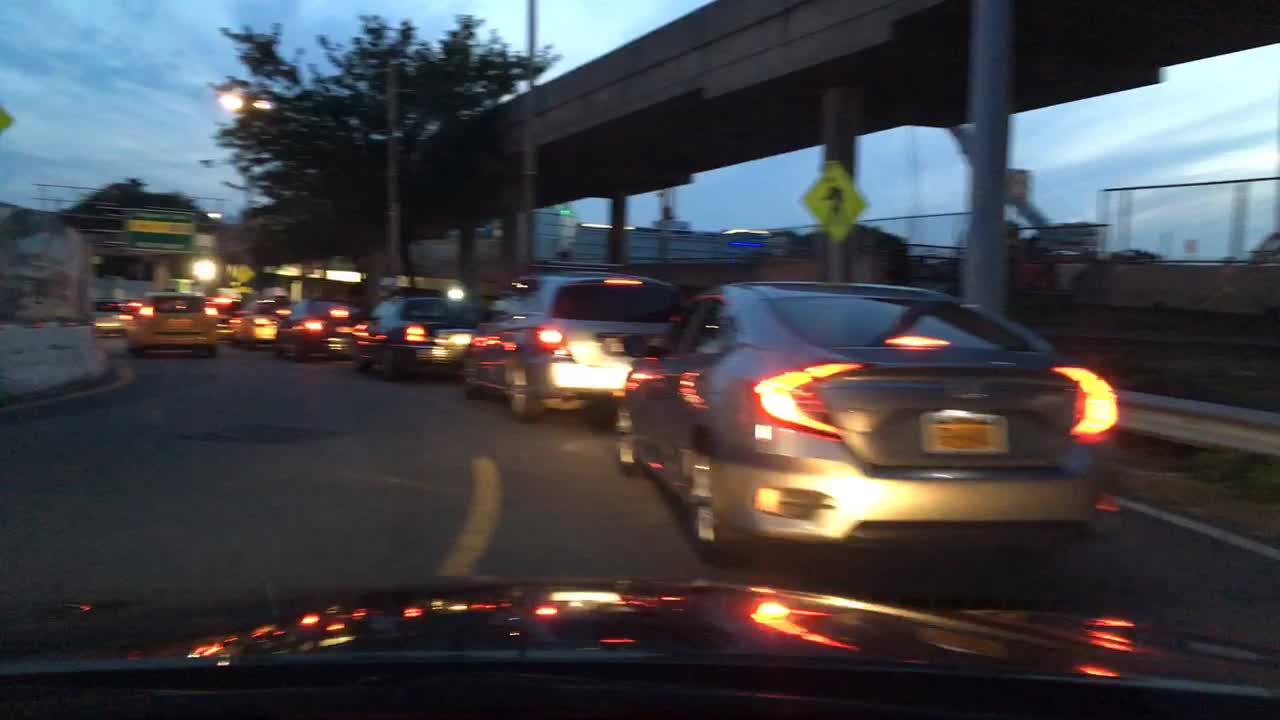car: (619, 276, 1125, 575), (465, 272, 693, 423), (352, 293, 493, 385), (126, 290, 220, 358), (277, 293, 369, 360), (230, 298, 298, 344), (89, 300, 136, 333), (213, 296, 242, 339)
traffic sign: (798, 159, 869, 242), (128, 209, 198, 250), (0, 100, 14, 135), (231, 264, 255, 283)
